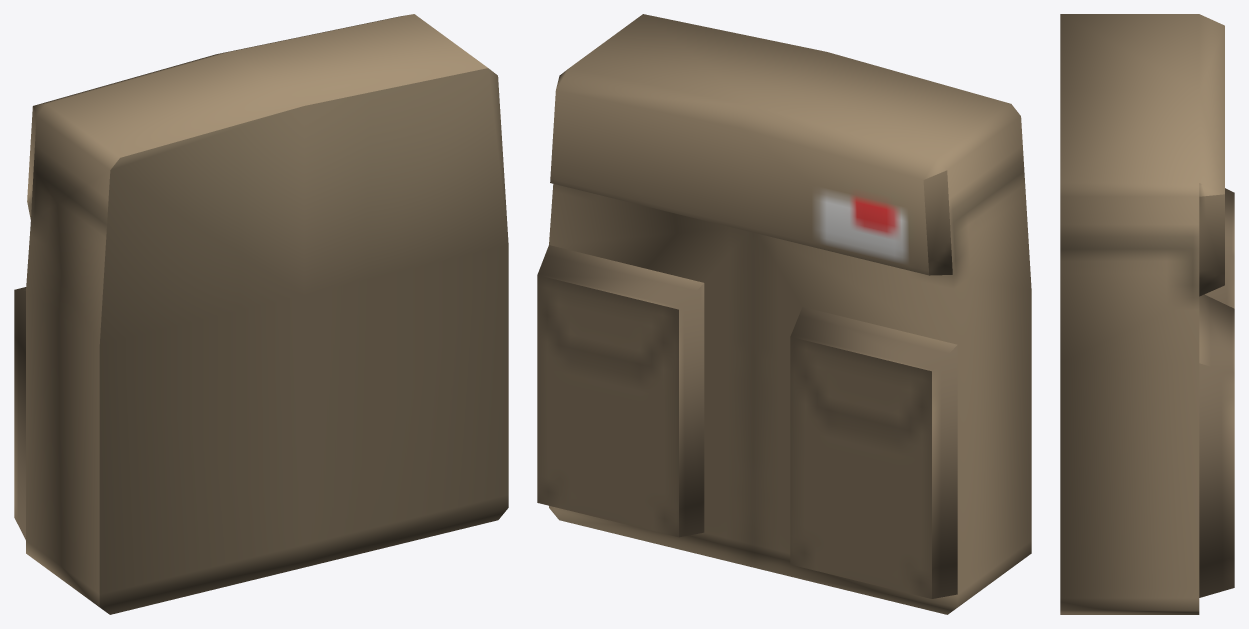
File: back_acc_04.FBX
3 views of the same model, side by side, from view 1: azimuth 30°, elevation 25°; view 2: azimuth 150°, elevation 25°; view 3: azimuth 270°, elevation 25° (orthographic). The views are drawn at different scales.
Visible parts, largest first — view 1: back_acc_04; view 2: back_acc_04; view 3: back_acc_04.
Boxes of the visible parts, box(x1,y1,x2,y2) form: back_acc_04: box(14, 14, 508, 614); back_acc_04: box(537, 14, 1031, 614); back_acc_04: box(1060, 14, 1234, 614).
Bounding box in the file's own units: 16.57 × 17.88 × 6.5.
